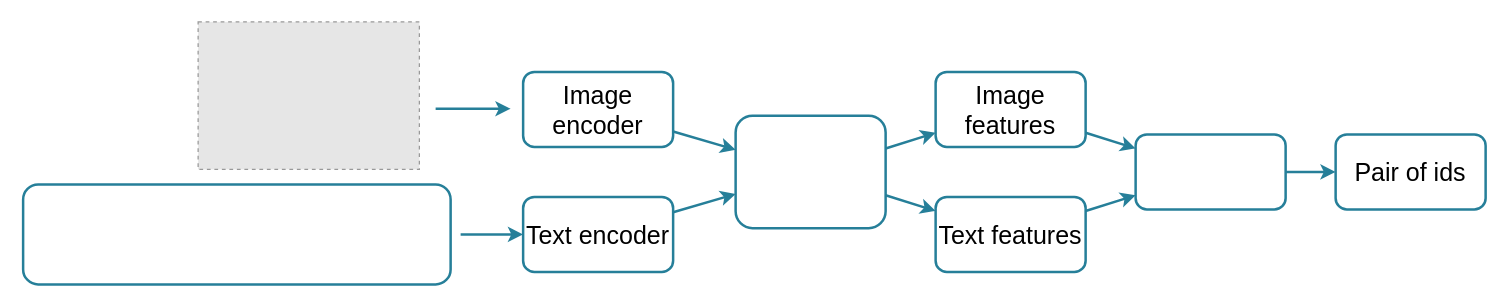
Image size: 1508x308. Some labels were removed from this diagram. Grey dashed boxes stand in for pictures. The shapes that lost their labels are listed below. From the top down, each one's centre as x and y in pixels, then its label:
At point 810,171: "Join embedding space".
At point 1210,171: "Recall@1".
At point 236,233: "title, images, ingredients, instructions from layer1.json. layer2.json".
